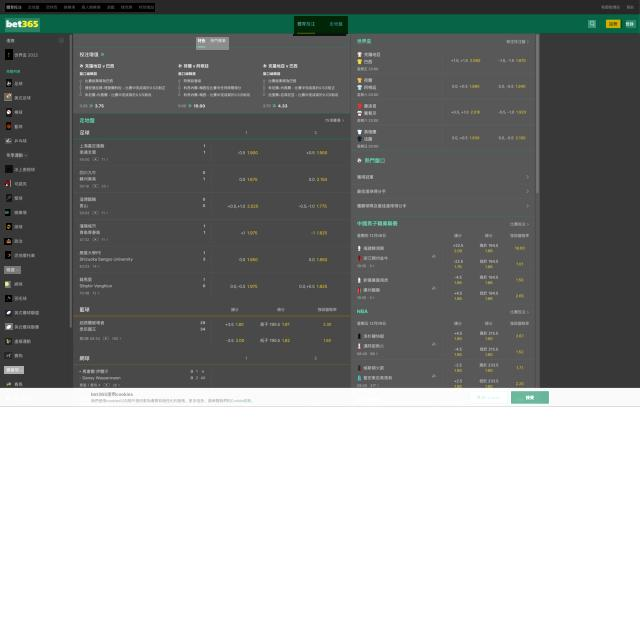CheckBox: (510, 390, 550, 404), (469, 390, 508, 404), (606, 20, 622, 28), (626, 20, 636, 28)
alert: (6, 152, 29, 159), (4, 366, 24, 374), (4, 266, 21, 274)
bag: (0, 0, 639, 34)
carousel: (5, 49, 13, 60), (588, 20, 596, 28), (4, 94, 12, 102), (5, 165, 13, 173), (4, 238, 12, 245), (5, 323, 13, 330), (4, 352, 12, 359), (6, 108, 12, 117), (5, 295, 12, 302), (5, 310, 12, 317), (5, 338, 12, 345), (6, 79, 12, 87), (5, 251, 11, 259), (5, 138, 12, 144), (6, 180, 12, 187), (6, 195, 12, 202), (6, 209, 12, 216), (6, 223, 12, 230), (6, 281, 12, 288), (6, 122, 11, 130)
date picker: (5, 18, 40, 32)
decoration: (5, 3, 155, 12)
header: (0, 388, 640, 406)
icon: (294, 16, 348, 36), (196, 37, 229, 50)
